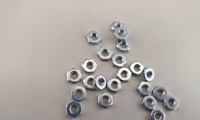nut: (66, 68, 83, 84), (66, 102, 82, 118), (137, 82, 154, 97), (83, 59, 98, 75), (163, 96, 179, 111), (72, 86, 87, 101), (142, 96, 157, 111), (99, 93, 113, 109), (87, 31, 103, 45), (98, 46, 114, 60), (94, 75, 108, 90), (108, 79, 123, 93), (153, 86, 168, 100), (116, 68, 132, 81), (114, 28, 129, 41), (83, 76, 97, 89), (113, 54, 127, 67), (142, 68, 155, 82), (130, 62, 144, 75), (117, 40, 131, 53), (150, 110, 166, 120), (112, 22, 126, 31)
